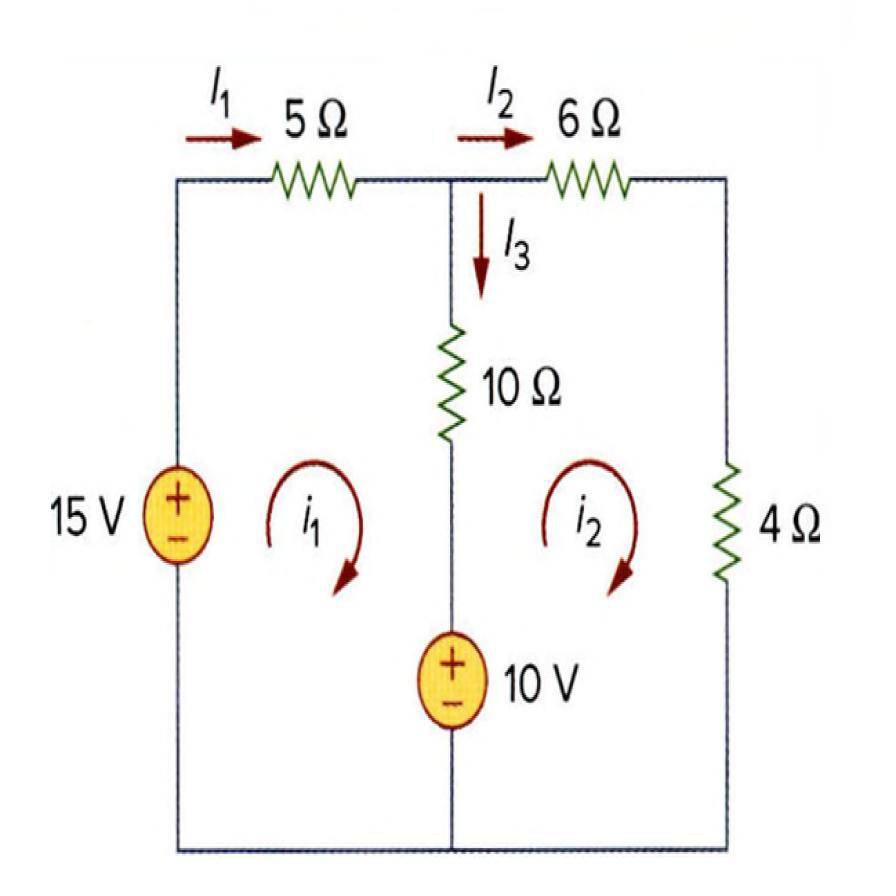R1: (535, 145, 644, 222), (262, 144, 365, 211)
R2: (695, 445, 760, 615), (418, 303, 476, 463)
V1: (135, 452, 221, 571), (408, 618, 495, 735)
